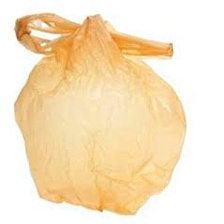plastic_bag: (8, 3, 191, 219)
